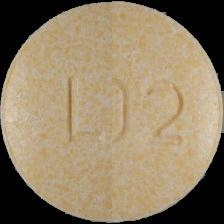50436-8000: (0, 0, 224, 224)
